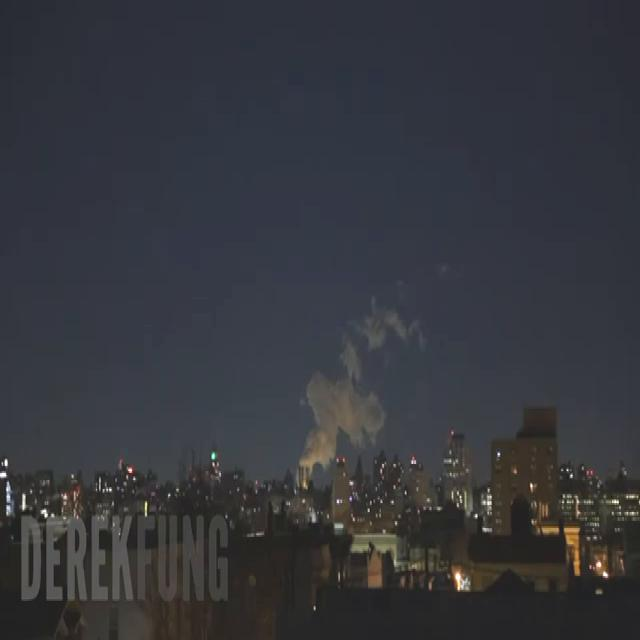smoke: (299, 331, 384, 480)
